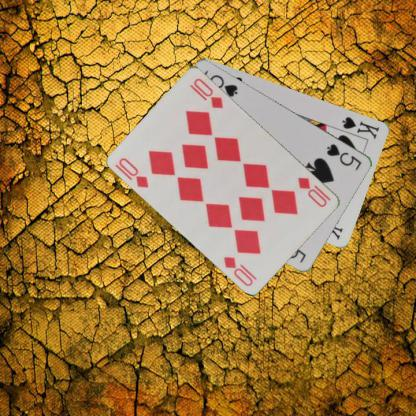10d: (295, 174, 333, 208), (117, 155, 150, 189)
5s: (324, 141, 364, 172)
Ks: (340, 114, 380, 140)
